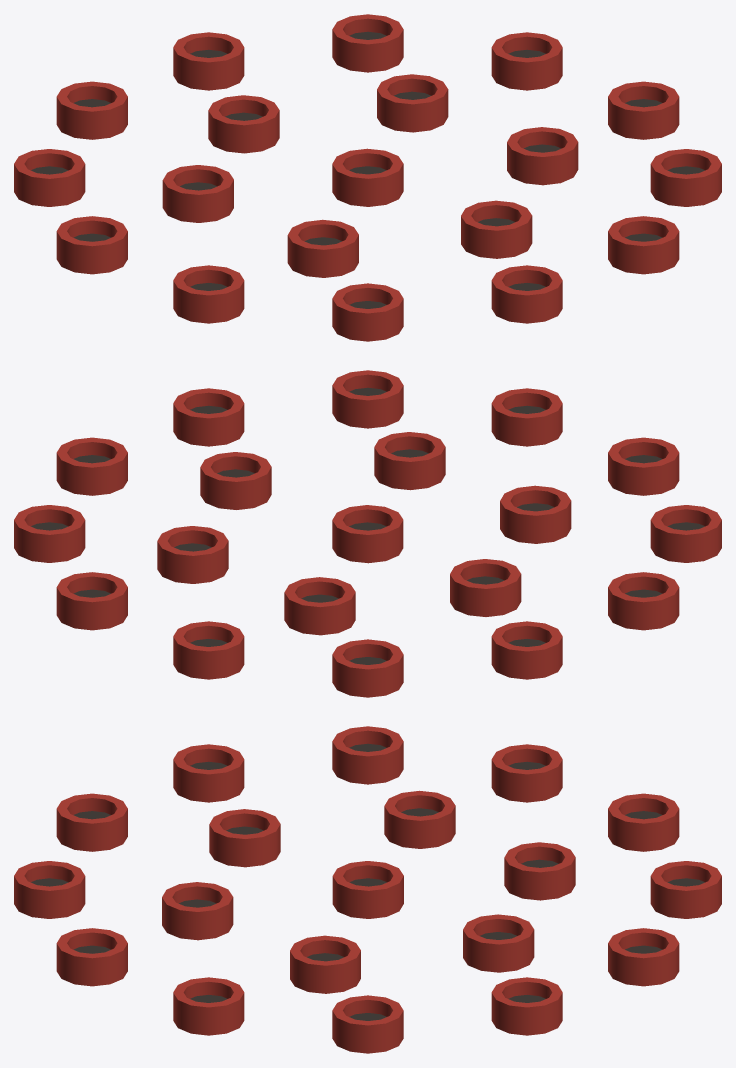
The model's file is PC_Burner.fbx.
3 views of the same model, one above another, from view 1: azimuth 30°, elevation 25°; view 2: azimuth 150°, elevation 25°; view 3: azimuth 270°, elevation 25° (orthographic).
Parts seen in each view (by area): view 1: PC_Burner; view 2: PC_Burner; view 3: PC_Burner.
Boxes of the visible parts, x1,y1,x2,y2 form: PC_Burner: (14, 14, 721, 341); PC_Burner: (14, 370, 721, 697); PC_Burner: (14, 726, 721, 1053).
Bounding box in the file's own units: 0.2707 × 0.0119 × 0.2707.
